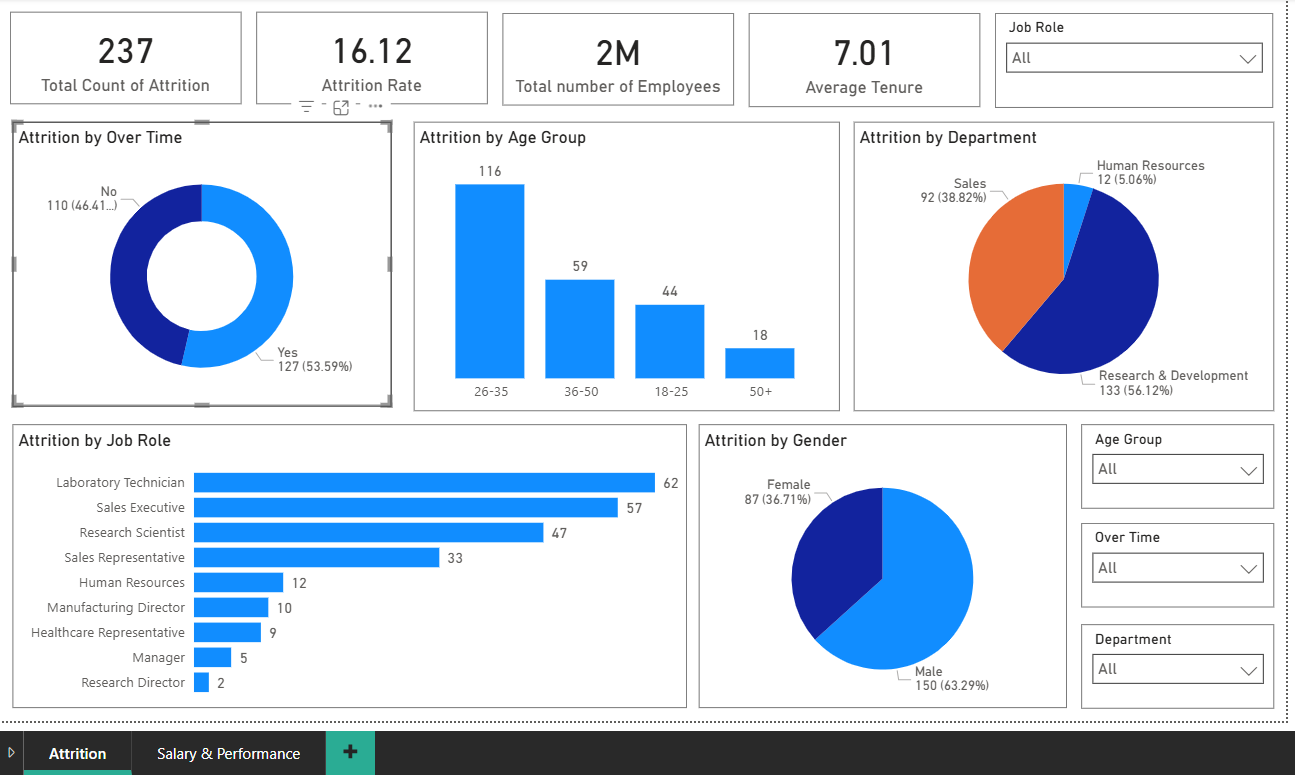

The dashboard page shown, as its layout file describes it:
{"tool":"powerbi","page":{"name":"Attrition","canvas":[1280,720],"ordinal":0},"visuals":[{"type":"card","fields":{"Values":["Sum(hr_employees.AttritionNum)"]},"box":[9.6,13.7,230.5,91.9],"z":0},{"type":"card","fields":{"Values":["Sum(hr_employees.EmployeeNumber)"]},"box":[499.5,15.1,230.5,91.9],"z":1000},{"type":"card","fields":{"Values":["hr_employees.Attrition Rate"]},"box":[255.2,13.7,230.5,91.9],"z":2000},{"type":"pieChart","title":"Attrition by Department","fields":{"Series":["hr_employees.Department"],"Y":["Sum(hr_employees.AttritionNum)"]},"box":[849.4,123.5,418.5,288.2],"z":3000},{"type":"barChart","title":"Attrition by Job Role","fields":{"Y":["Sum(hr_employees.AttritionNum)"],"Category":["hr_employees.JobRole"]},"box":[12.3,424,671,282.7],"z":4000},{"type":"donutChart","title":"Attrition by Over Time","fields":{"Y":["Sum(hr_employees.AttritionNum)"],"Category":["hr_employees.OverTime"]},"box":[12.3,123.5,377.4,282.7],"z":5000},{"type":"clusteredColumnChart","title":"Attrition by Age Group","fields":{"Y":["Sum(hr_employees.AttritionNum)"],"Category":["hr_employees.AgeGroup"]},"box":[411.7,123.5,424,288.2],"z":6000},{"type":"pieChart","title":"Attrition by Gender","fields":{"Category":["hr_employees.Gender"],"Y":["Sum(hr_employees.AttritionNum)"]},"box":[695.7,424,366.4,282.7],"z":7000},{"type":"card","fields":{"Values":["Avg(hr_employees.Tenure)"]},"box":[745.1,15.1,230.5,93.3],"z":8000},{"type":"slicer","fields":{"Values":["hr_employees.Department"]},"box":[1075.8,623,192.1,83.7],"z":9000},{"type":"slicer","fields":{"Values":["hr_employees.AgeGroup"]},"box":[1075.8,424,192.1,83.7],"z":10000},{"type":"slicer","fields":{"Values":["hr_employees.JobRole"]},"box":[990.7,15.1,277.2,94.7],"z":11000},{"type":"slicer","fields":{"Values":["hr_employees.OverTime"]},"box":[1075.8,522.8,192.1,83.7],"z":12000}]}

Visuals, with their boxes on the page's 1280x720 design canvas (x1, y1, x2, y2). These are canvas units, not pixel positions in the 1295x775 screenshot, which may show the page scaled, cropped or inside an application window:
card - Sum(hr_employees.AttritionNum): 10:14:240:106
card - Sum(hr_employees.EmployeeNumber): 500:15:730:107
card - hr_employees.Attrition Rate: 255:14:486:106
"Attrition by Department" pieChart: 849:124:1268:412
"Attrition by Job Role" barChart: 12:424:683:707
"Attrition by Over Time" donutChart: 12:124:390:406
"Attrition by Age Group" clusteredColumnChart: 412:124:836:412
"Attrition by Gender" pieChart: 696:424:1062:707
card - Avg(hr_employees.Tenure): 745:15:976:108
slicer - hr_employees.Department: 1076:623:1268:707
slicer - hr_employees.AgeGroup: 1076:424:1268:508
slicer - hr_employees.JobRole: 991:15:1268:110
slicer - hr_employees.OverTime: 1076:523:1268:606
